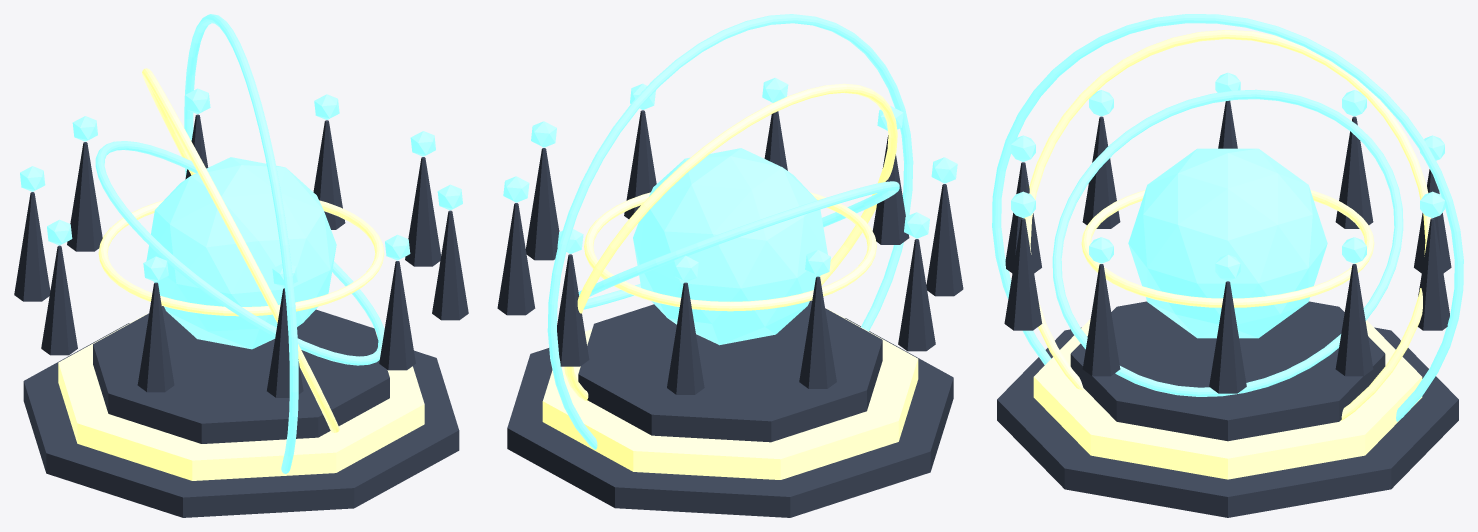
File: gpu-blender-v33.glb
3 views of the same model, side by side, from view 1: azimuth 30°, elevation 25°; view 2: azimuth 150°, elevation 25°; view 3: azimuth 270°, elevation 25° (orthographic). The views are drawn at different scales.
Visible parts, largest first — view 1: Cylinder.002, SovereignCore_zothos-lite, Cylinder, Cylinder.001, Torus.003, Torus.001, Torus, Torus.002, Cone.006, Cone.009, Cone.005, Cone.008 (+12 smaller); view 2: Cylinder.002, SovereignCore_zothos-lite, Cylinder, Cylinder.001, Torus.003, Torus.002, Torus, Torus.001, Cone.005, Cone.001, Cone.006, Cone.003 (+12 smaller); view 3: SovereignCore_zothos-lite, Cylinder.002, Cylinder, Cylinder.001, Torus.003, Torus.001, Torus.002, Torus, Cone.001, Cone.009, Cone, Cone.008 (+7 smaller).
Boxes of the visible parts, bbox=[...] form: Cylinder.002: bbox=[93, 306, 389, 443]; SovereignCore_zothos-lite: bbox=[146, 157, 336, 349]; Cylinder: bbox=[23, 323, 459, 517]; Cylinder.001: bbox=[58, 314, 424, 480]; Torus.003: bbox=[184, 14, 298, 473]; Torus.001: bbox=[95, 141, 384, 365]; Torus: bbox=[98, 200, 384, 316]; Torus.002: bbox=[142, 68, 339, 432]; Cone.006: bbox=[137, 282, 174, 392]; Cone.009: bbox=[432, 210, 468, 320]; Cone.005: bbox=[41, 245, 77, 355]; Cone.008: bbox=[379, 261, 415, 370]; Cylinder.002: bbox=[578, 300, 882, 442]; SovereignCore_zothos-lite: bbox=[633, 148, 827, 345]; Cylinder: bbox=[507, 318, 953, 517]; Cylinder.001: bbox=[542, 308, 918, 479]; Torus.003: bbox=[547, 14, 913, 449]; Torus.002: bbox=[564, 83, 897, 400]; Torus: bbox=[584, 192, 876, 311]; Torus.001: bbox=[578, 181, 899, 309]; Cone.005: bbox=[898, 239, 935, 351]; Cone.001: bbox=[497, 203, 535, 315]; Cone.006: bbox=[926, 184, 963, 296]; Cone.003: bbox=[667, 282, 704, 394]; SovereignCore_zothos-lite: bbox=[1128, 148, 1327, 338]; Cylinder.002: bbox=[1070, 301, 1385, 441]; Cylinder: bbox=[997, 327, 1458, 517]; Cylinder.001: bbox=[1033, 319, 1422, 479]; Torus.003: bbox=[992, 14, 1463, 421]; Torus.001: bbox=[1052, 89, 1403, 396]; Torus.002: bbox=[1024, 30, 1431, 420]; Torus: bbox=[1081, 190, 1374, 307]; Cone.001: bbox=[1335, 264, 1373, 376]; Cone.009: bbox=[1082, 264, 1120, 376]; Cone: bbox=[1209, 281, 1246, 393]; Cone.008: bbox=[1004, 218, 1042, 330].
Size of the model in its own units: 4.41 by 4.7 by 4.49.
